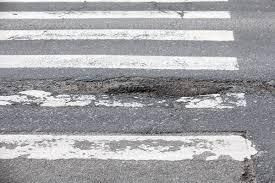crack: (65, 130, 243, 142), (240, 127, 261, 183)
pothole: (89, 72, 273, 111)
